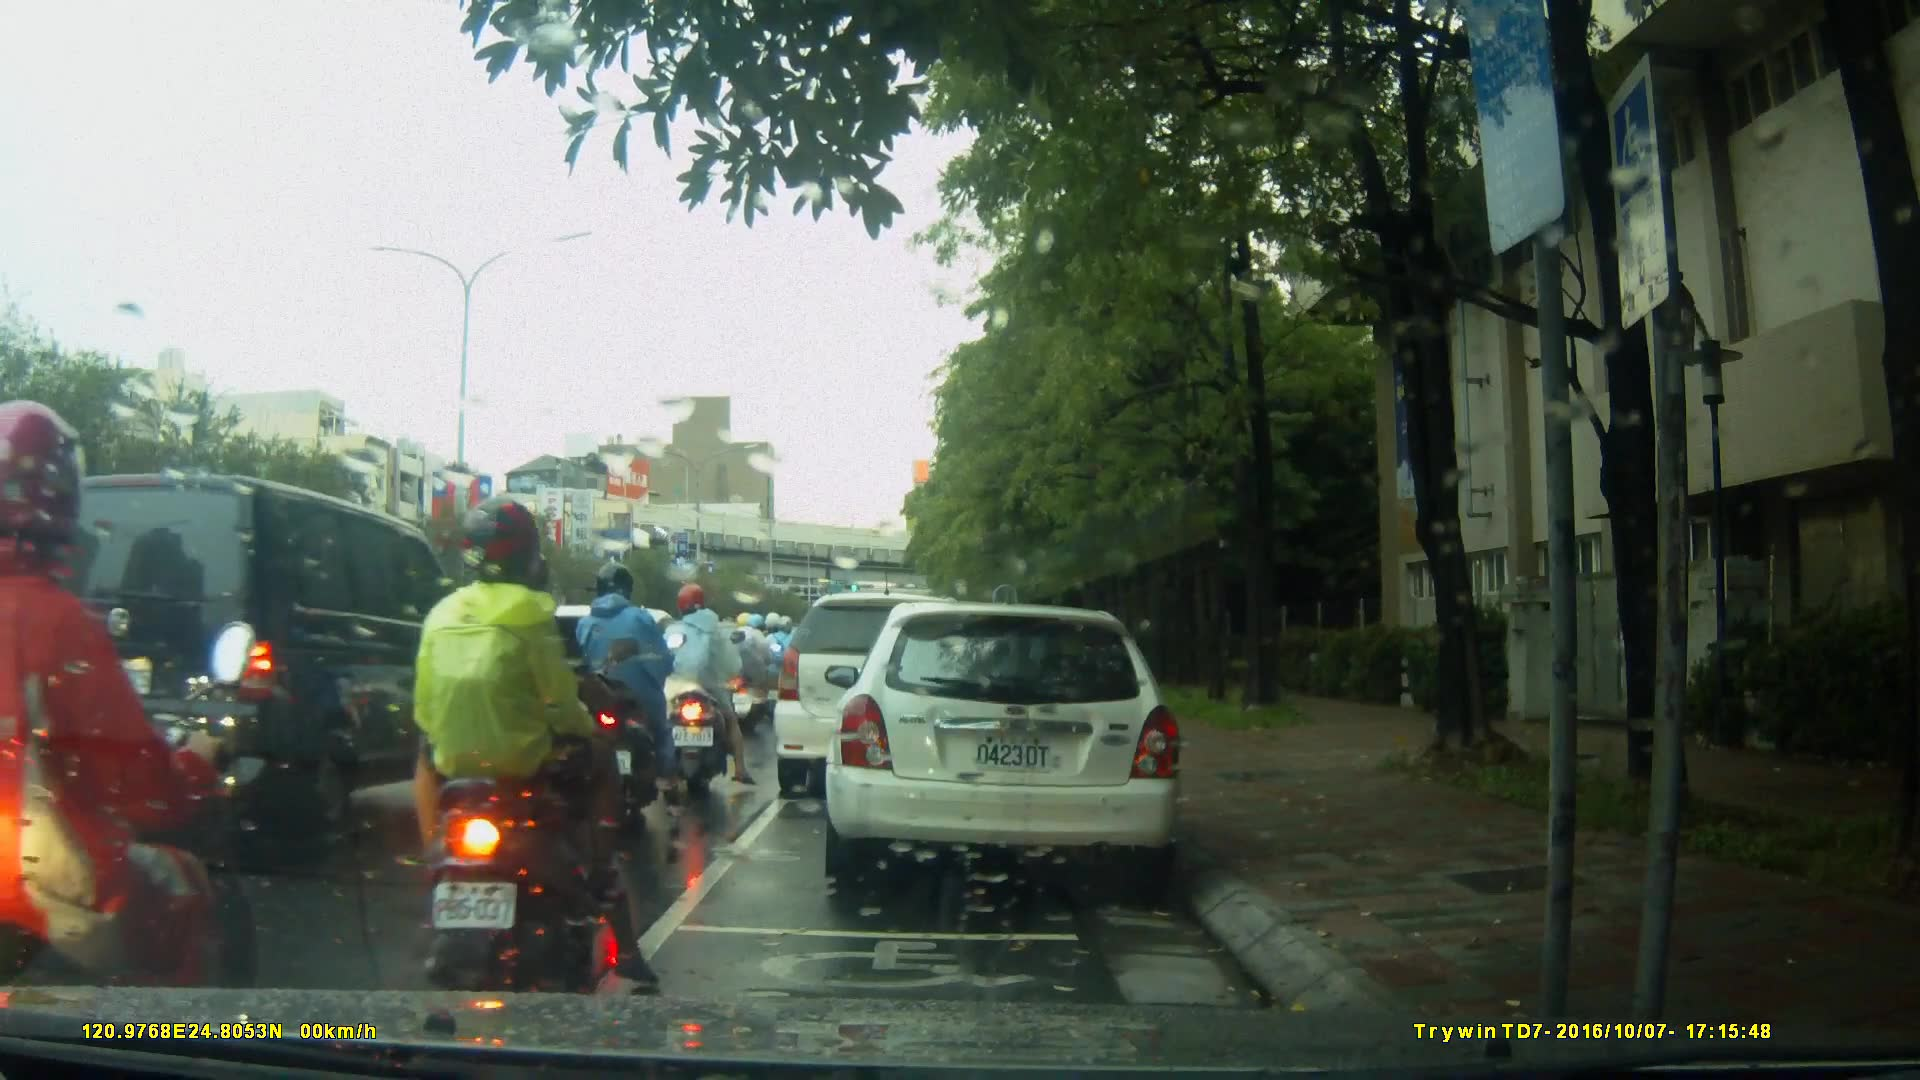rider: (3, 407, 262, 1077), (402, 497, 662, 994), (434, 567, 591, 906), (565, 565, 682, 836), (655, 585, 747, 793), (722, 612, 775, 734)
vehicle: (24, 463, 452, 863), (822, 604, 1188, 883), (774, 595, 995, 802), (440, 598, 690, 779)
